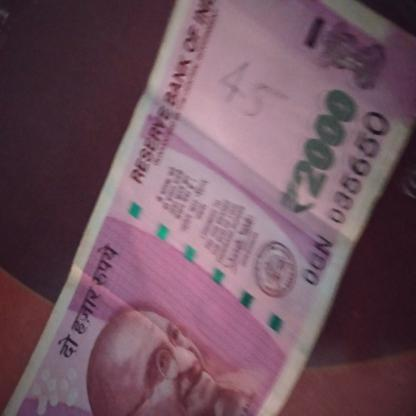New2000Front: (2, 19, 415, 415)
